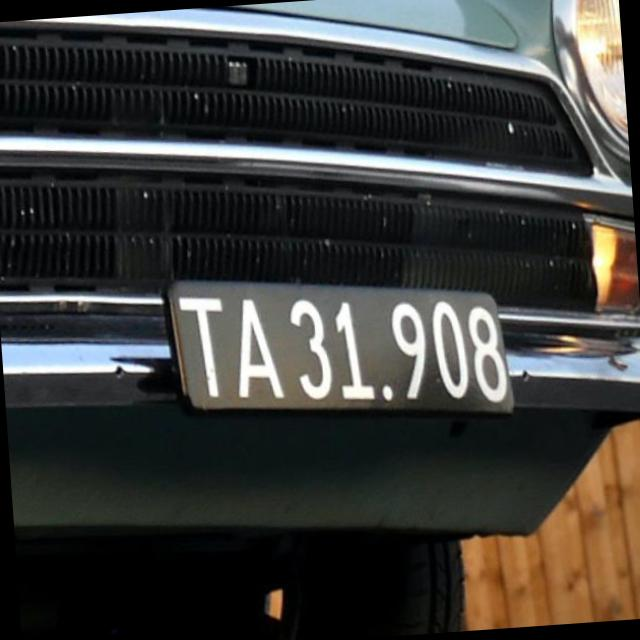LicensePlate: (160, 250, 527, 452)
